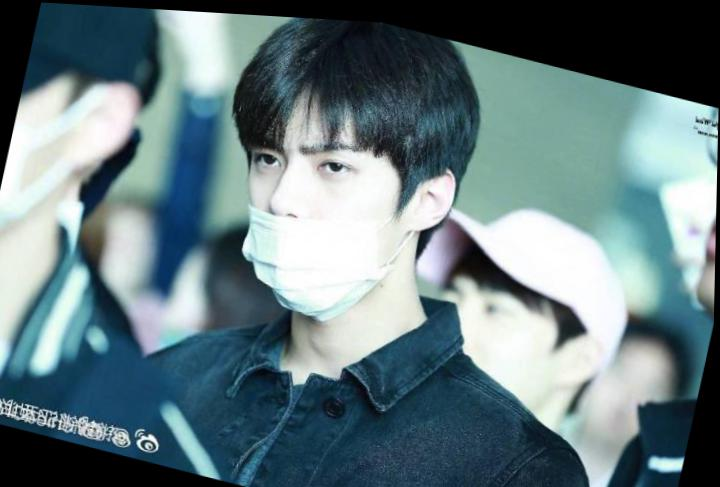NONE: (412, 251, 564, 430)
WRONG: (222, 96, 409, 330)
